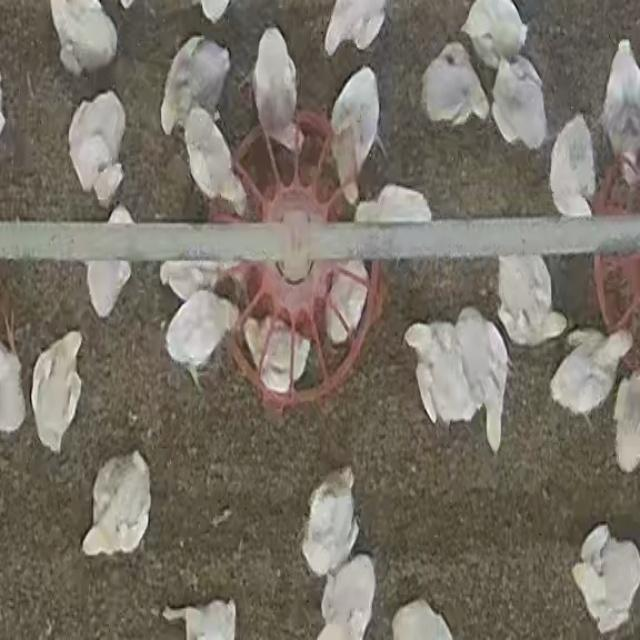chicken: (404, 308, 512, 454), (183, 103, 249, 225), (160, 290, 241, 388), (65, 89, 130, 208), (327, 64, 381, 206), (550, 328, 632, 420), (159, 36, 230, 142), (82, 450, 151, 558), (571, 524, 640, 632), (299, 462, 363, 578), (252, 22, 306, 158), (31, 331, 85, 453), (495, 256, 566, 348), (242, 310, 312, 396), (421, 42, 488, 129), (490, 54, 548, 150), (86, 206, 134, 320), (315, 555, 376, 639), (548, 115, 598, 217), (460, 1, 529, 73), (322, 263, 370, 349), (323, 1, 389, 58)
